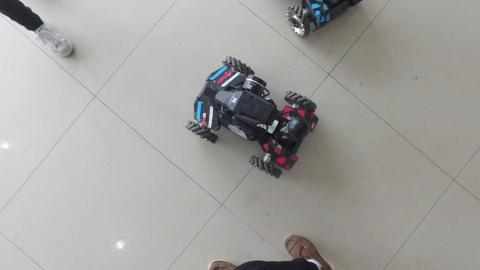chariot: (184, 51, 322, 183), (276, 1, 360, 43)
